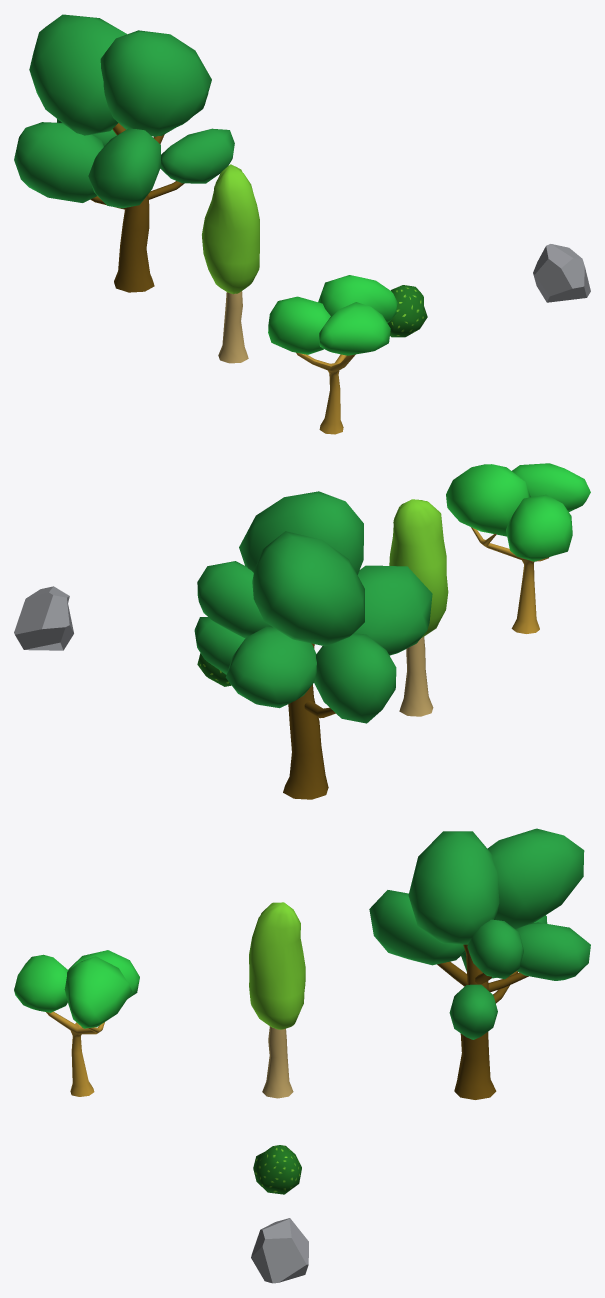
The model's file is env-res.glb.
3 renders of one model, top to bottom at view 1: azimuth 30°, elevation 25°; view 2: azimuth 150°, elevation 25°; view 3: azimuth 270°, elevation 25°, orthographic. The views are drawn at different scales.
Visible parts, largest first — view 1: Tree3, Tree1, Tree2, Rock, Bush; view 2: Tree3, Tree1, Tree2, Rock, Bush; view 3: Tree3, Tree1, Tree2, Rock, Bush.
Part boxes in pixels (box(x1,y1,x2,y2)): Tree3: box(14, 14, 234, 292); Tree1: box(268, 275, 397, 434); Tree2: box(202, 164, 259, 363); Rock: box(533, 244, 590, 302); Bush: box(387, 285, 427, 337); Tree3: box(194, 491, 432, 799); Tree1: box(446, 463, 590, 633); Tree2: box(389, 499, 448, 716); Rock: box(14, 586, 73, 650); Bush: box(197, 653, 231, 686); Tree3: box(369, 828, 590, 1099); Tree1: box(14, 950, 139, 1096); Tree2: box(249, 902, 305, 1098); Rock: box(251, 1218, 308, 1283); Bush: box(253, 1145, 301, 1194).
Bounding box in the file's own units: 26.42 × 15.78 × 29.35.
1 material, 1 textured.
